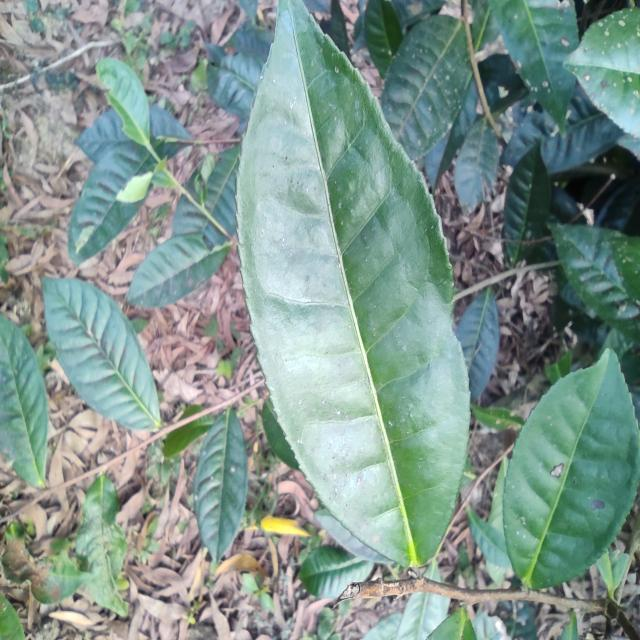Category D(7+ days, Not for Tea): (215, 0, 475, 578)
